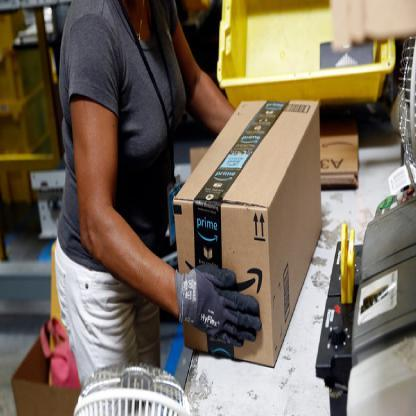package: (170, 97, 323, 372)
